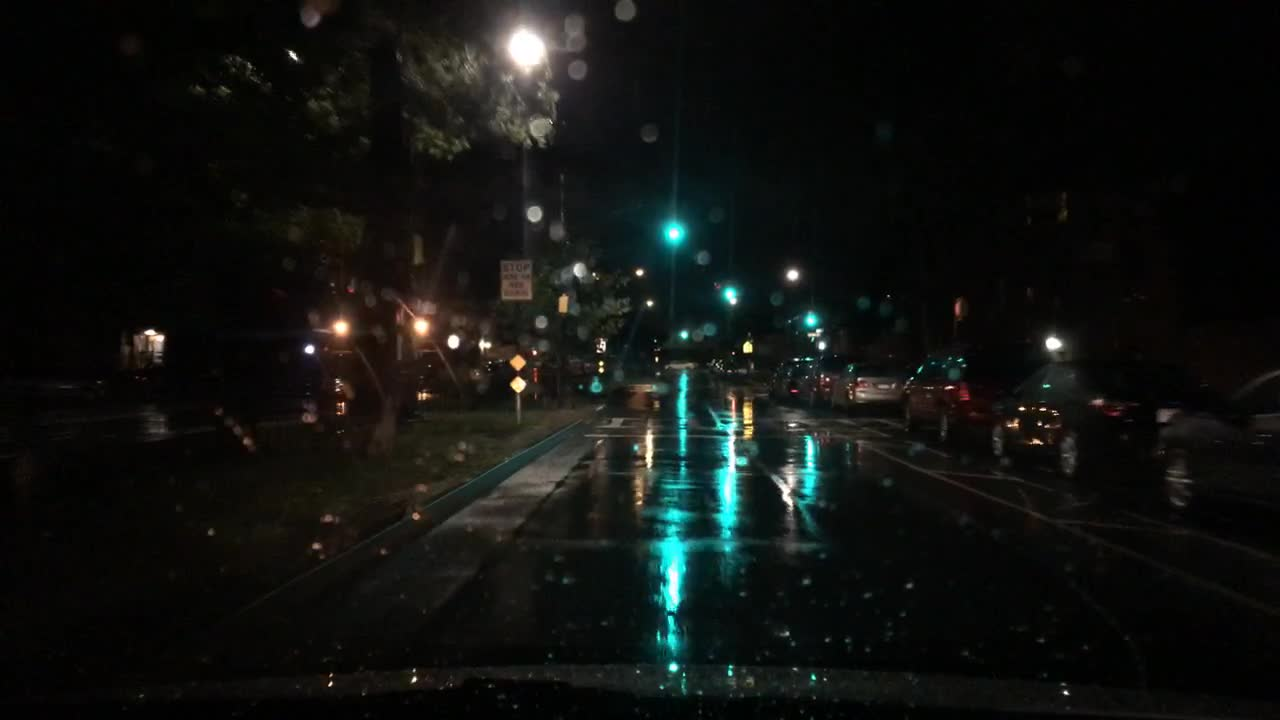car: (989, 356, 1201, 482), (1144, 361, 1279, 516), (209, 319, 363, 415), (896, 354, 1029, 447), (415, 334, 496, 401), (823, 359, 906, 412), (479, 342, 558, 393), (21, 364, 116, 406), (789, 356, 840, 407), (766, 358, 800, 401), (719, 351, 754, 386), (558, 351, 611, 373), (665, 353, 702, 373), (710, 354, 725, 381), (705, 354, 717, 373)
traffic light: (708, 275, 724, 307), (950, 292, 970, 317), (725, 277, 739, 305), (666, 219, 678, 246), (803, 307, 816, 331), (678, 320, 690, 341), (816, 337, 827, 354)
traffic sign: (498, 260, 528, 300), (739, 337, 752, 354), (803, 332, 822, 341)
